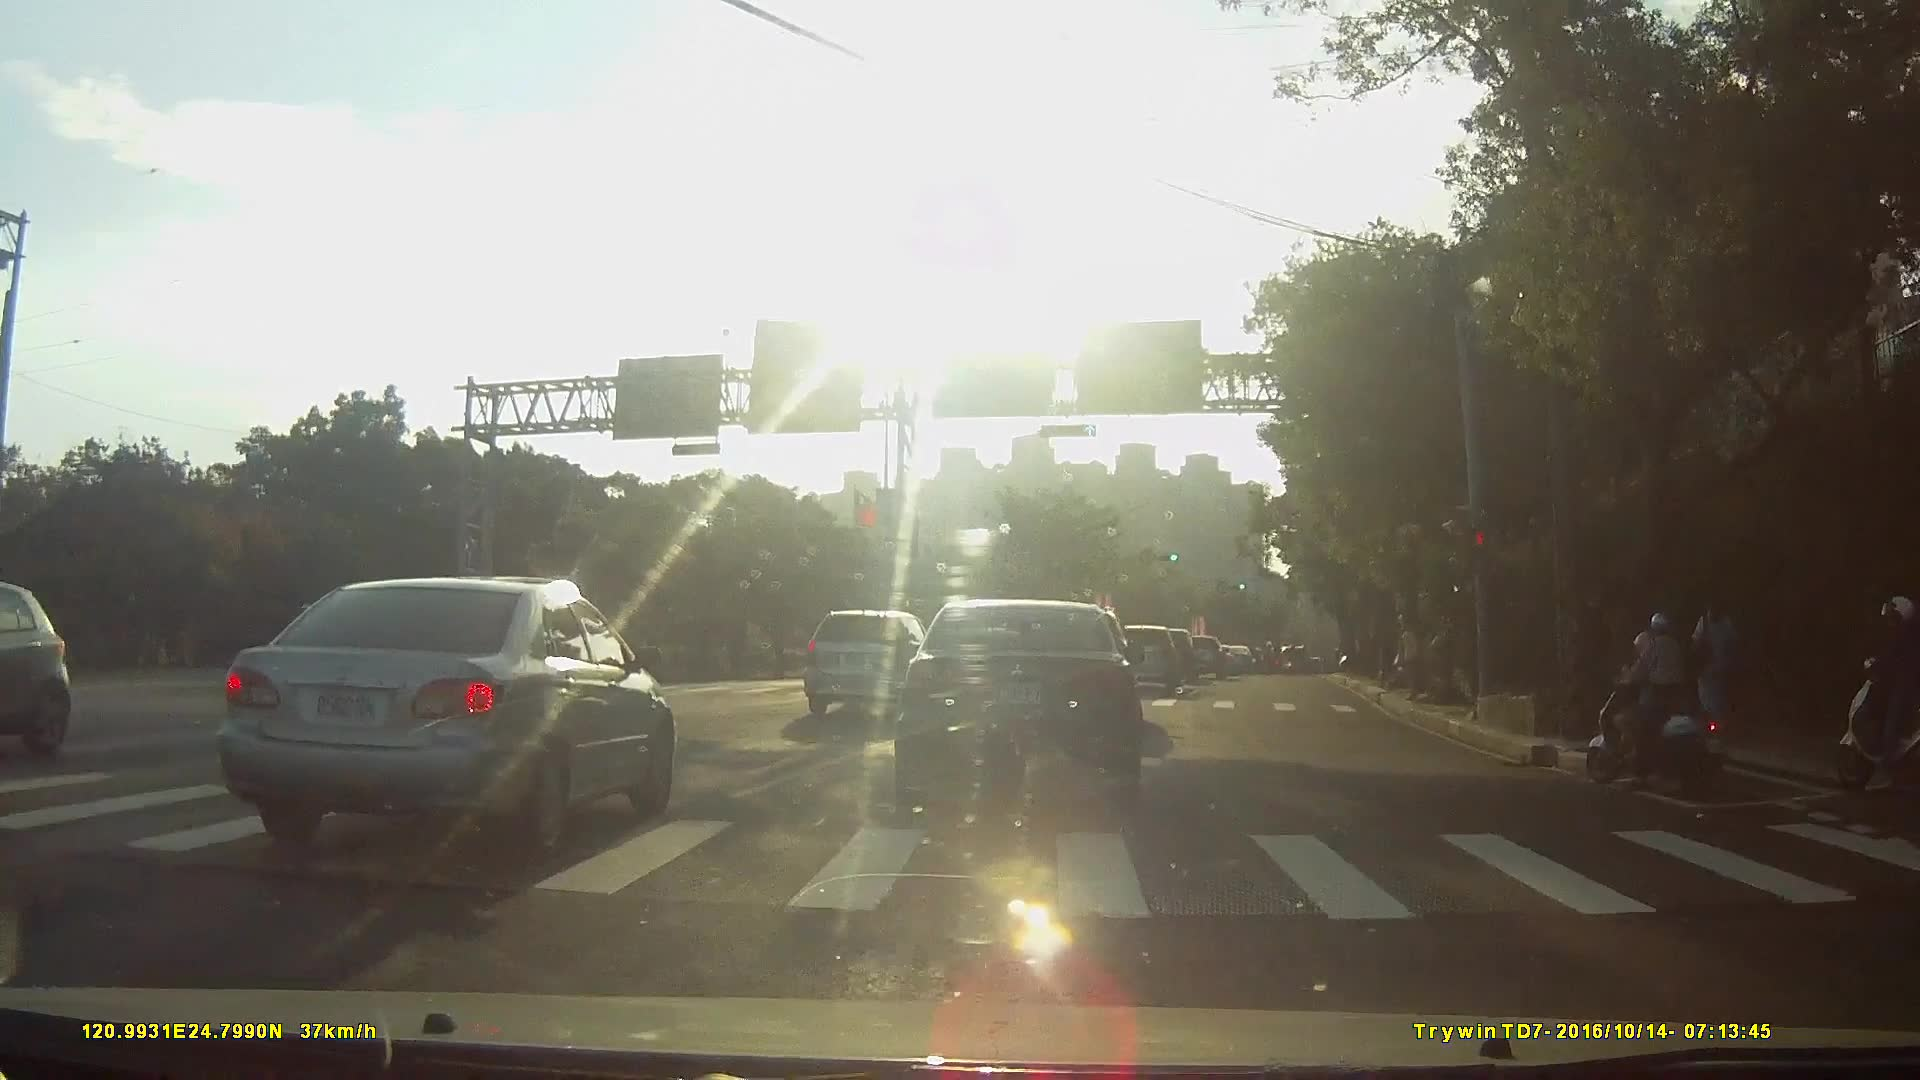pedestrian: (1686, 588, 1744, 742)
rider: (1586, 610, 1737, 797), (1828, 597, 1920, 792)
vehicle: (200, 575, 676, 860), (891, 596, 1143, 807), (1, 579, 90, 776), (800, 607, 945, 718), (1106, 622, 1180, 691), (1174, 632, 1224, 675), (1218, 642, 1255, 670)
